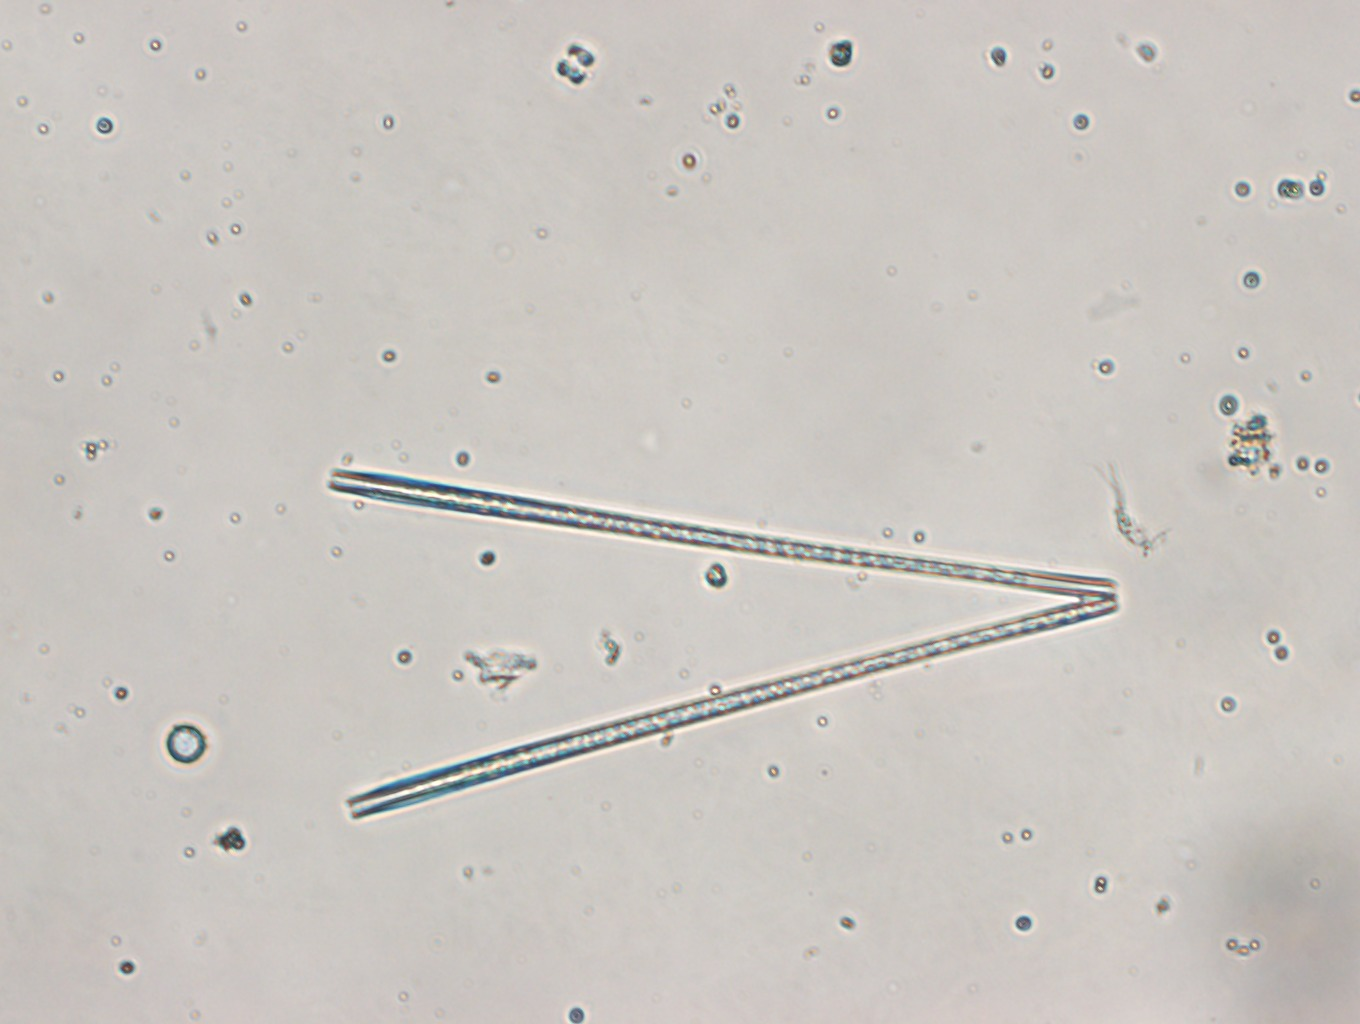thalassionema frauenfeldii: (324, 449, 1135, 830)
